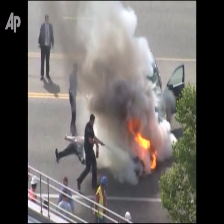fire_h: (129, 117, 150, 159)
fire_l: (150, 151, 158, 169)
